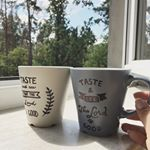cups: (68, 64, 150, 138), (16, 64, 74, 131)
